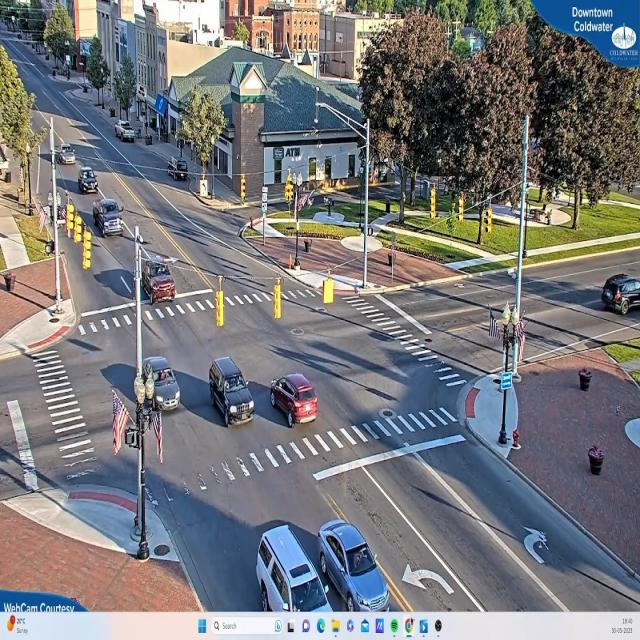car: (249, 521, 381, 612), (315, 524, 389, 613), (207, 359, 253, 428), (268, 375, 319, 427), (151, 360, 182, 416), (140, 260, 178, 304), (601, 274, 639, 314), (92, 200, 125, 240), (78, 168, 100, 194), (116, 123, 135, 143), (59, 146, 76, 166)
